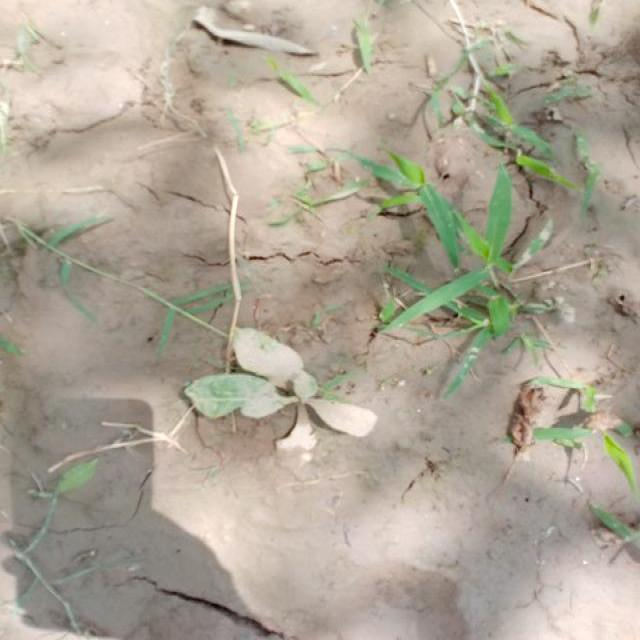crop: (190, 312, 382, 452)
